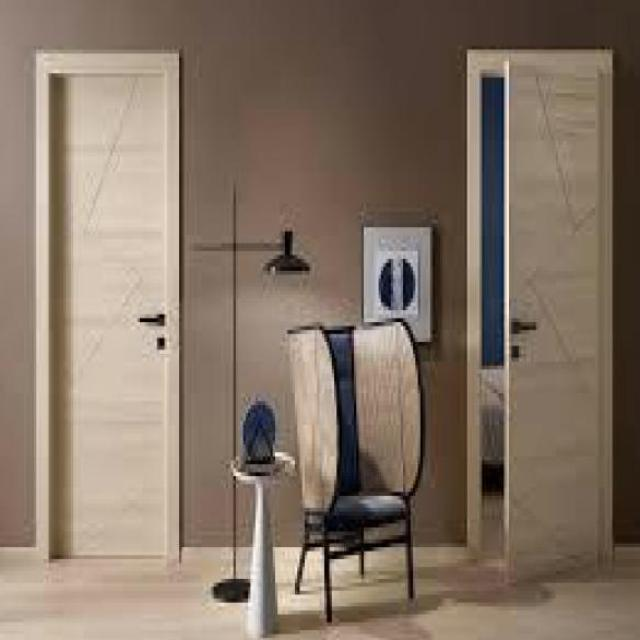door: (40, 50, 181, 563), (496, 51, 604, 578)
